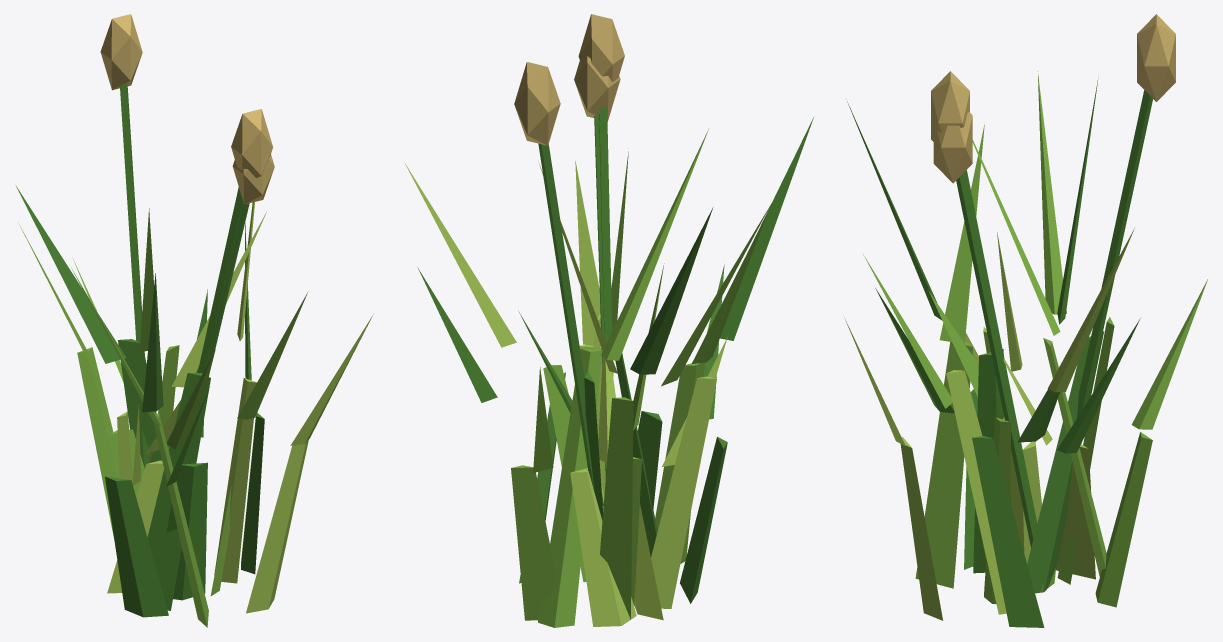
Rendered from hierbajo.glb.
3 renders of one model, left to right at view 1: azimuth 30°, elevation 25°; view 2: azimuth 150°, elevation 25°; view 3: azimuth 270°, elevation 25°, orthographic. The views are drawn at different scales.
Visible parts, largest first — view 1: hierbajo_hierba_osc, hierbajo_hierba_clara, hierbajo_hierba, hierbajo_seco; view 2: hierbajo_hierba, hierbajo_hierba_osc, hierbajo_hierba_clara, hierbajo_seco; view 3: hierbajo_hierba_osc, hierbajo_hierba, hierbajo_hierba_clara, hierbajo_seco.
Part boxes in pixels (x1,y1,x2,y2): hierbajo_hierba_osc: (16,83,264,617); hierbajo_hierba_clara: (107,202,373,613); hierbajo_hierba: (18,208,308,627); hierbajo_seco: (100,14,274,204); hierbajo_hierba: (511,129,771,627); hierbajo_hierba_osc: (417,106,813,603); hierbajo_hierba_clara: (405,160,727,626); hierbajo_seco: (514,14,624,145); hierbajo_hierba_osc: (847,76,1152,627); hierbajo_hierba: (863,71,1207,607); hierbajo_hierba_clara: (844,228,1134,620); hierbajo_seco: (931,14,1175,183).
Size of the model in its own units: 0.7946 by 1.37 by 0.7939.
